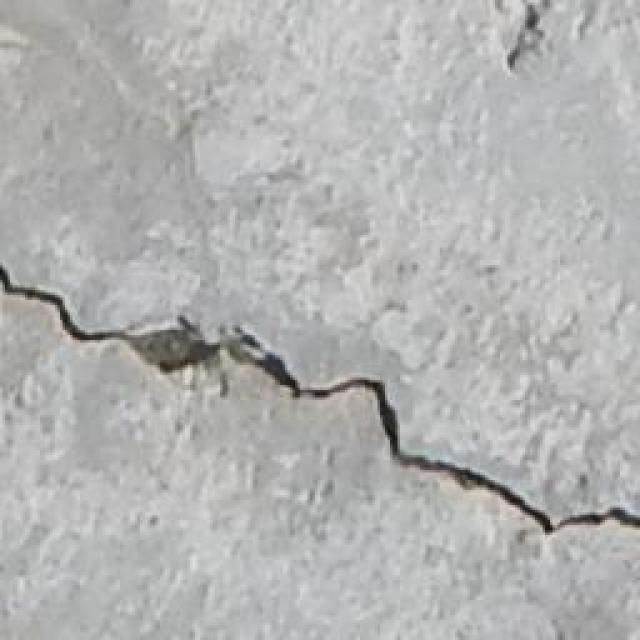concrete-crack: (0, 251, 639, 540)
